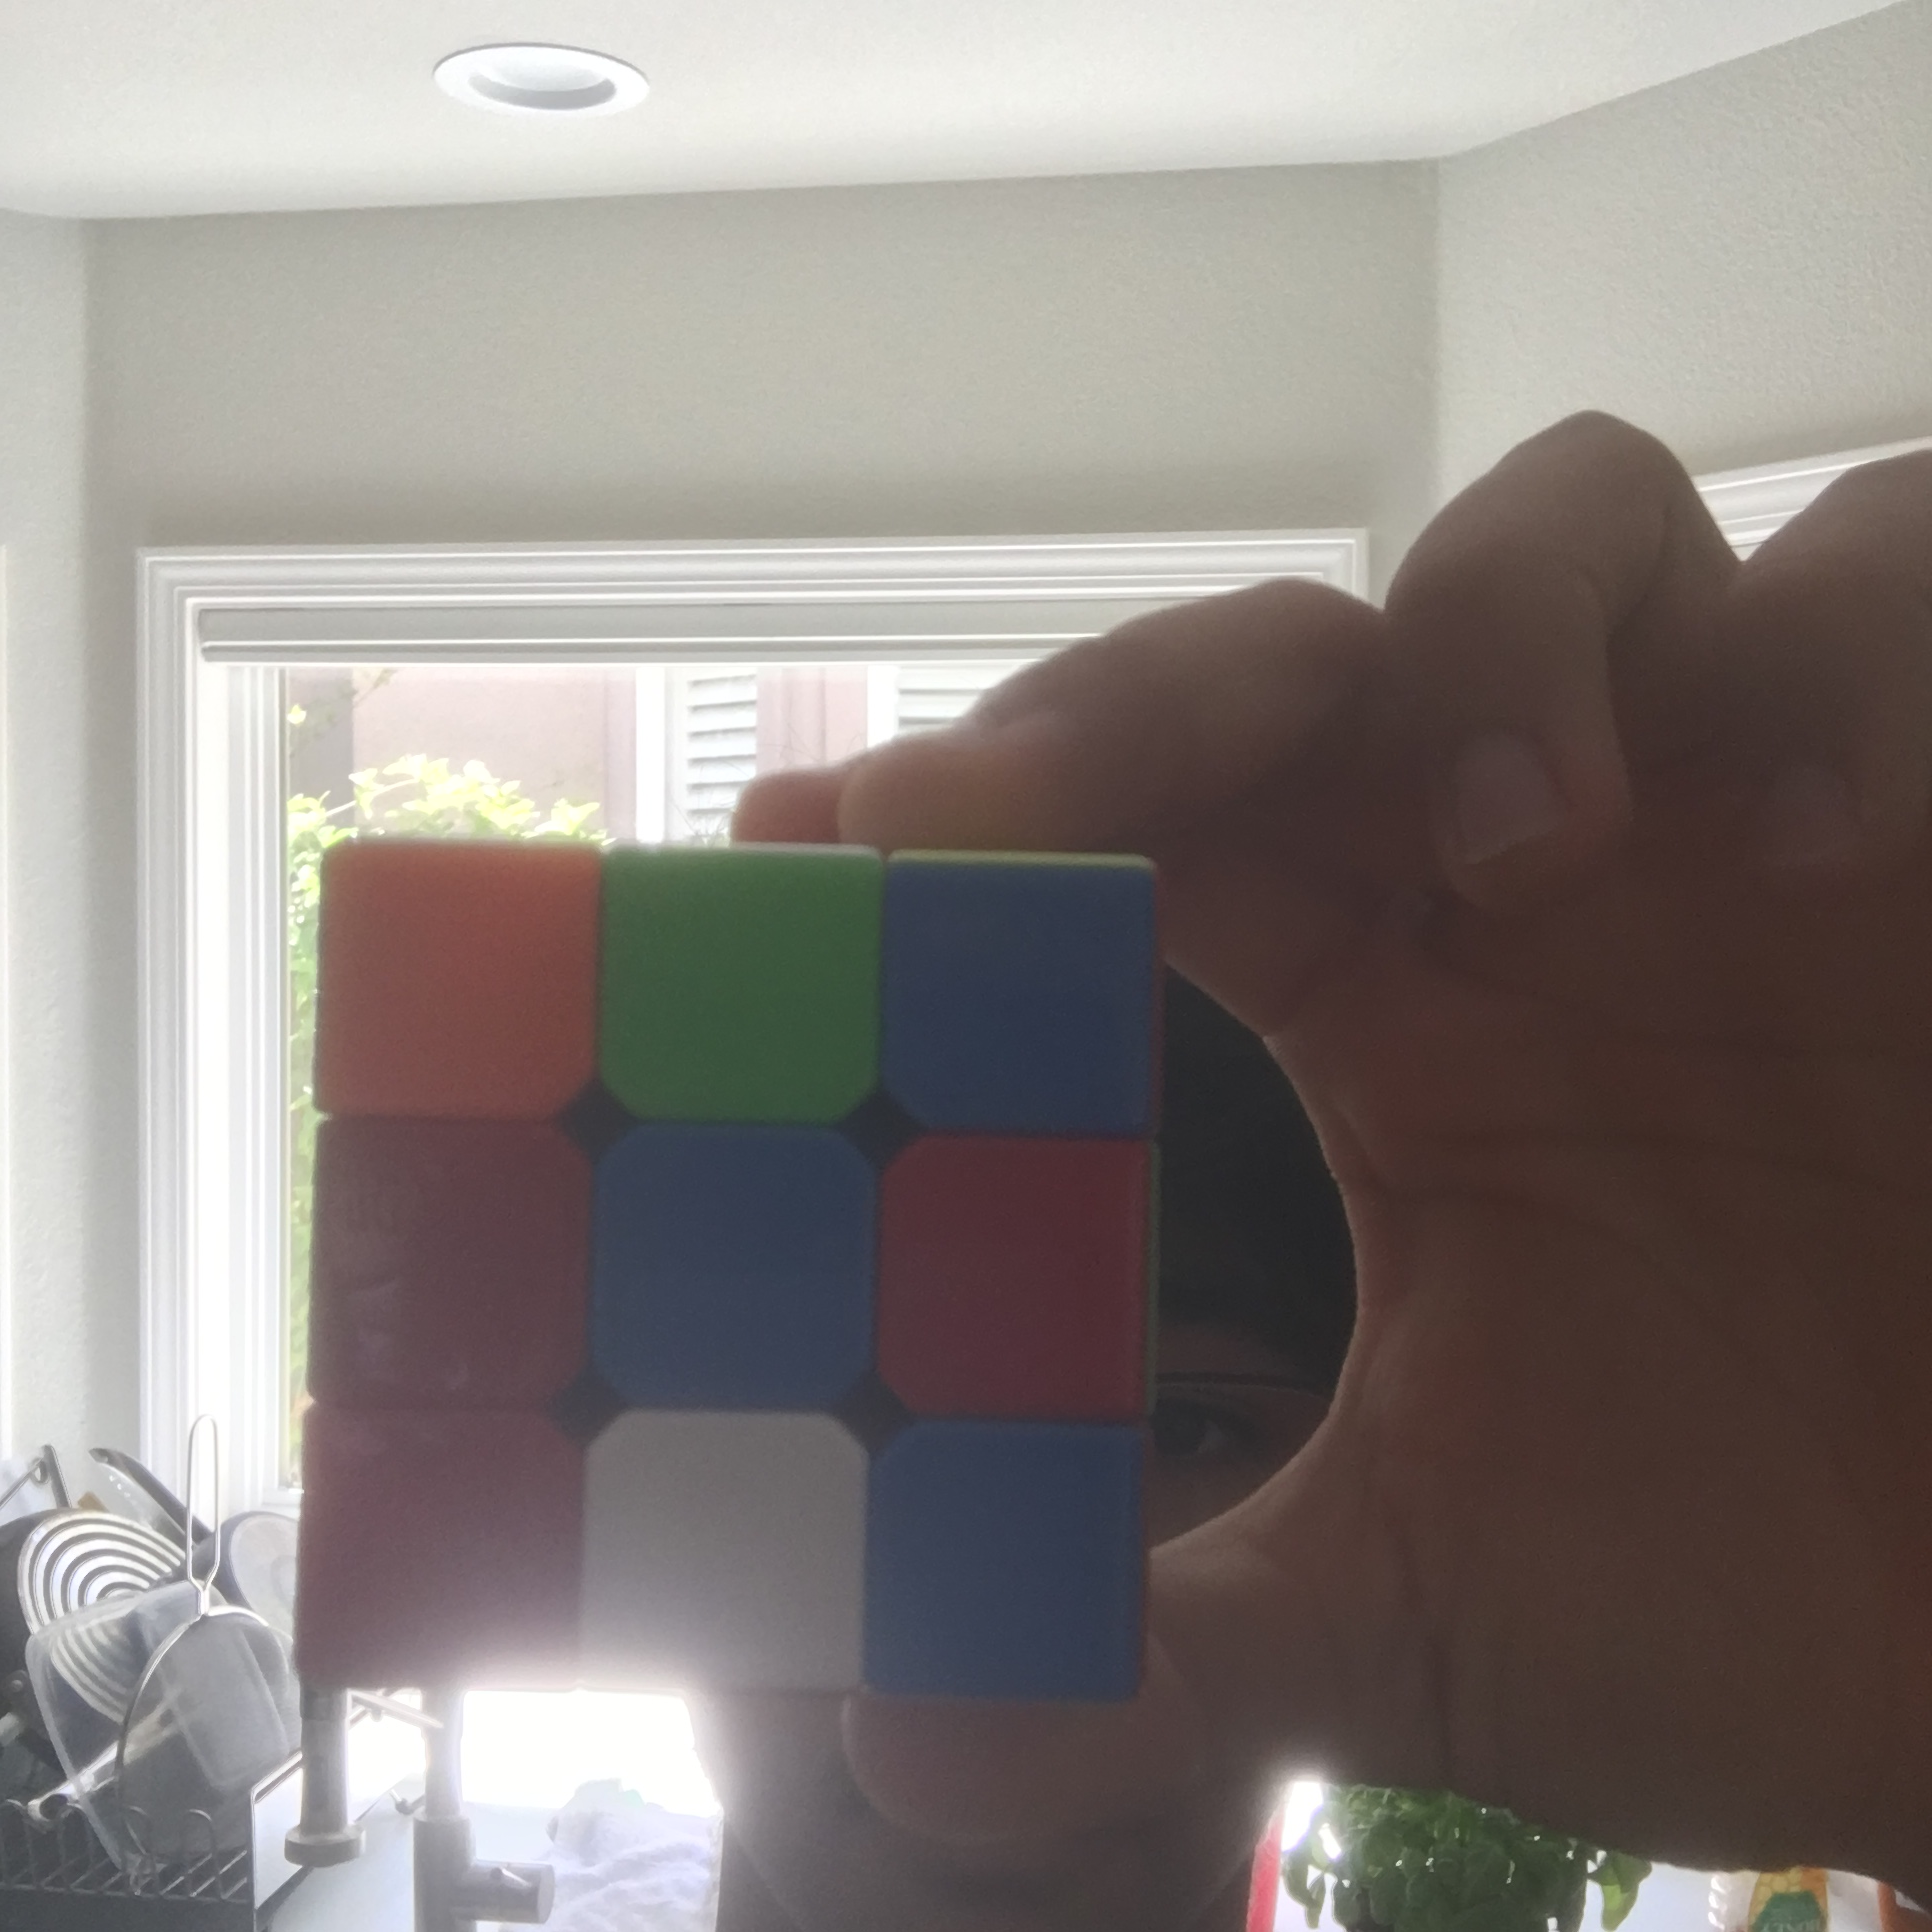face: (288, 843, 1153, 1701)
